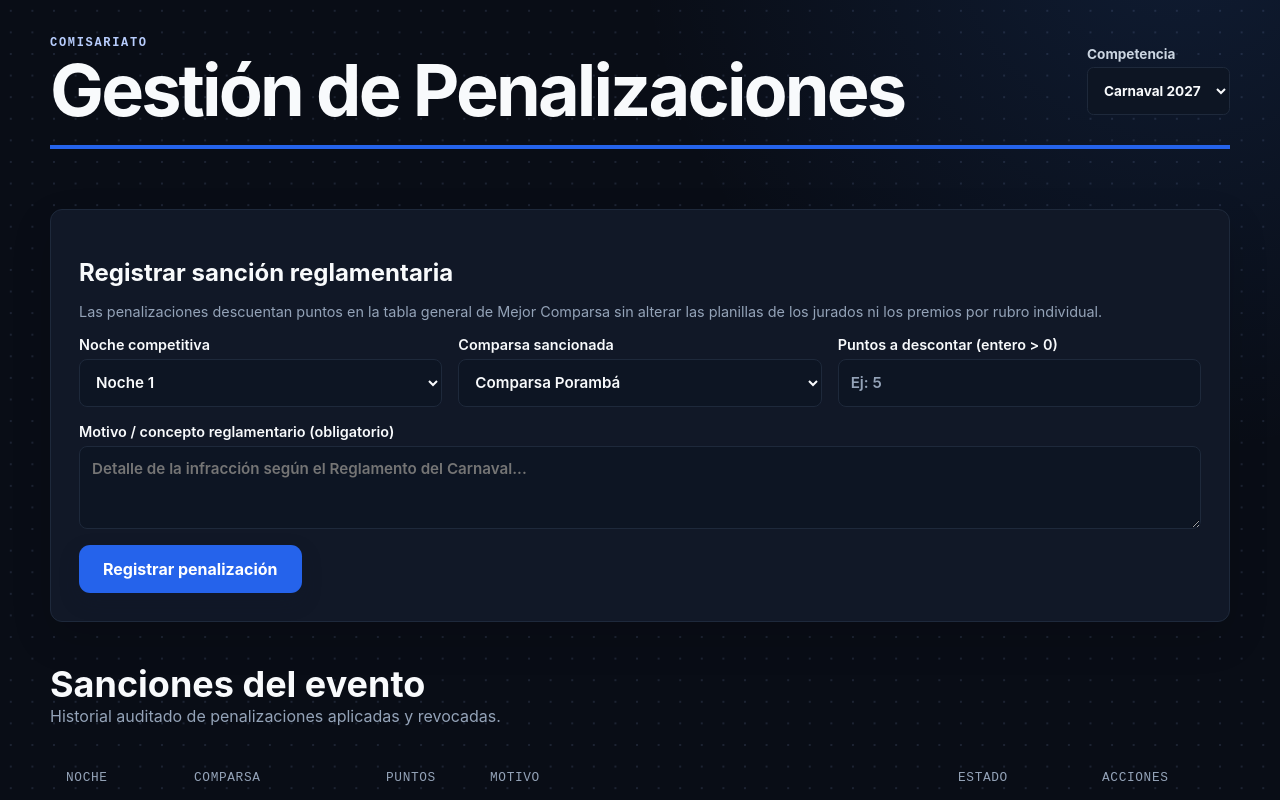
it: AdminPenaltiesPage › permite registrar una nueva penalización y actualiza el listado
The width and height of the screenshot is (1280, 800).
expect the heading "Registrar sanción reglamentaria" is shown: met, box [79,258,453,287]
Type "5" into the number field labelled "Puntos a descontar (entero > 0)". click: x=1019, y=383
box: [838,359,1201,407]
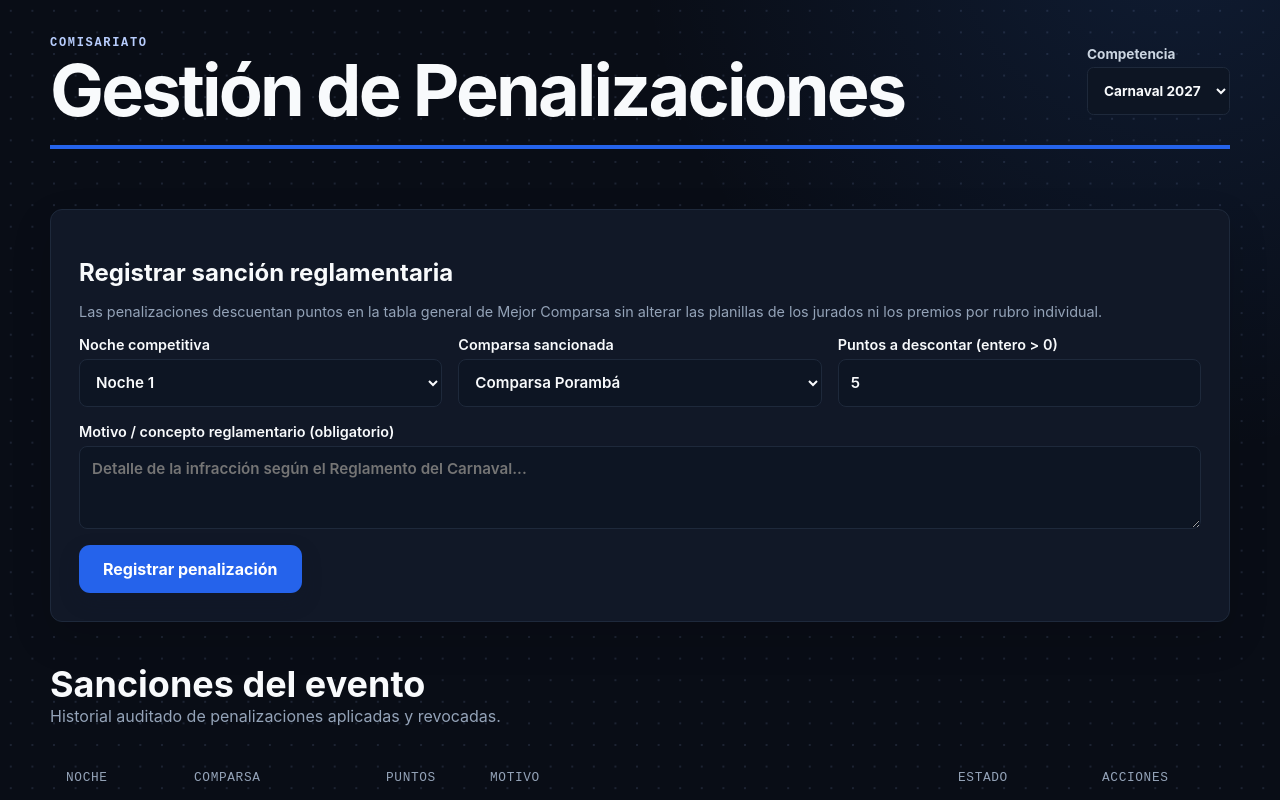
Type "Uso indebido de pirotecnia" into the text box labelled "Motivo / concepto reglamentario (obligatorio)". click: x=640, y=488
box: [79,446,1201,529]
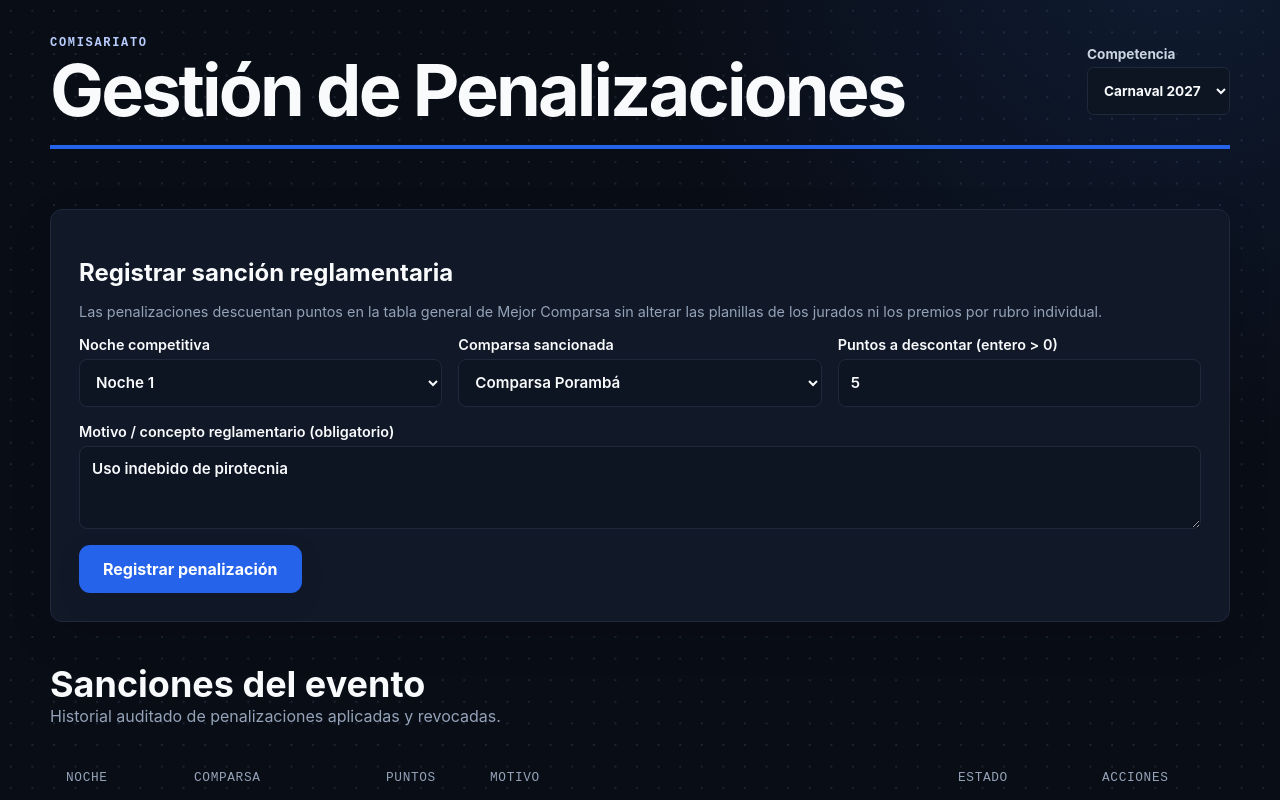
Click the button "Registrar penalización". click: x=190, y=569
box: [79,545,302,593]
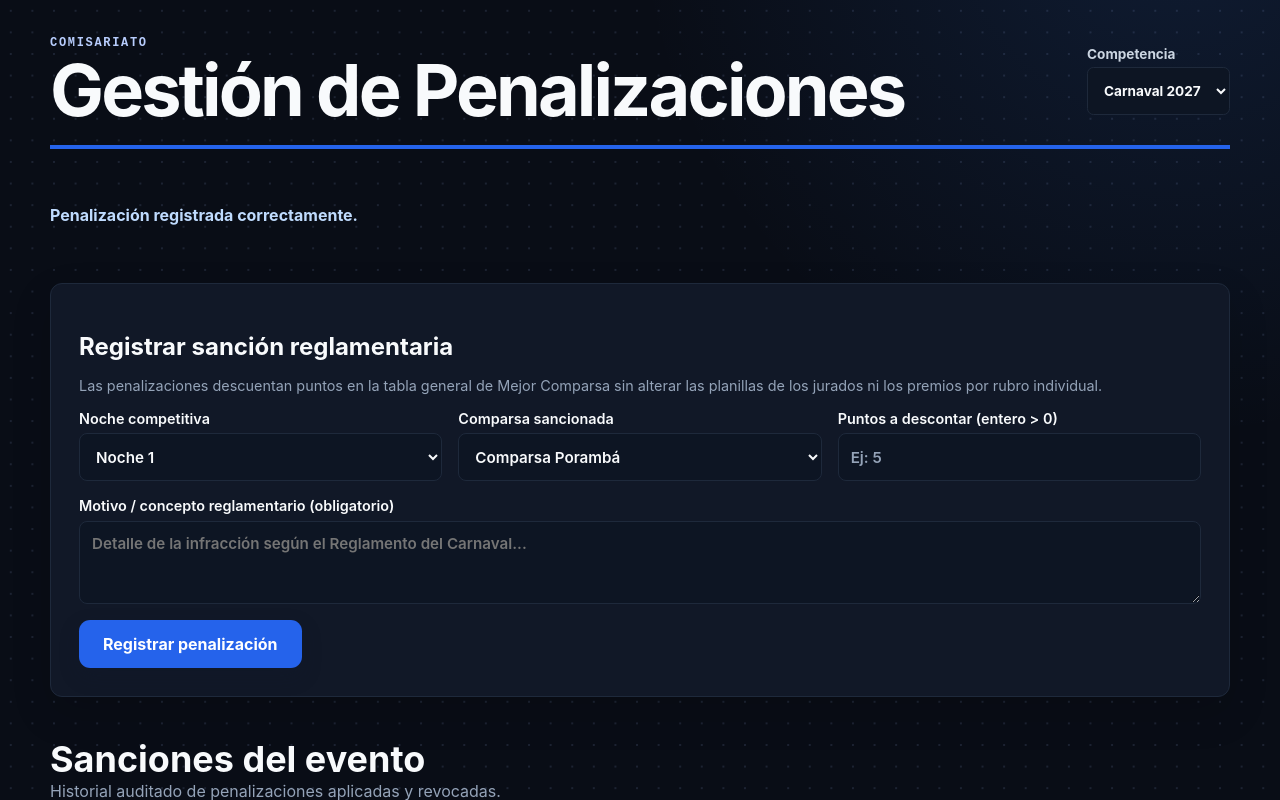
expect the text "Penalización registrada correctamente." is shown: met, box [50,205,358,225]
expect the number field labelled "Puntos a descontar (entero > 0)" is empty: met, box [838,433,1201,481]
expect the text box labelled "Motivo / concepto reglamentario (obligatorio)" is empty: met, box [79,521,1201,604]
